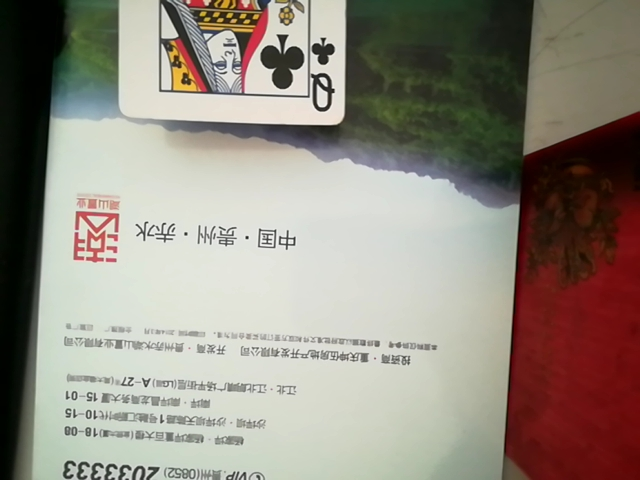mh q: (102, 0, 361, 130)
